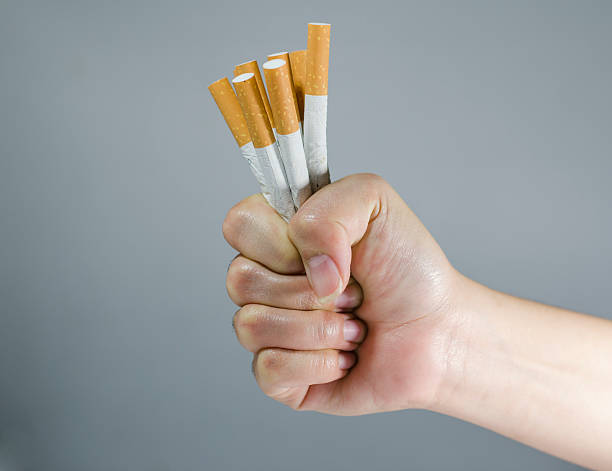cigarette: (231, 71, 296, 223), (205, 74, 270, 220), (262, 57, 314, 211), (306, 21, 333, 194), (233, 57, 273, 127), (287, 48, 308, 122)
